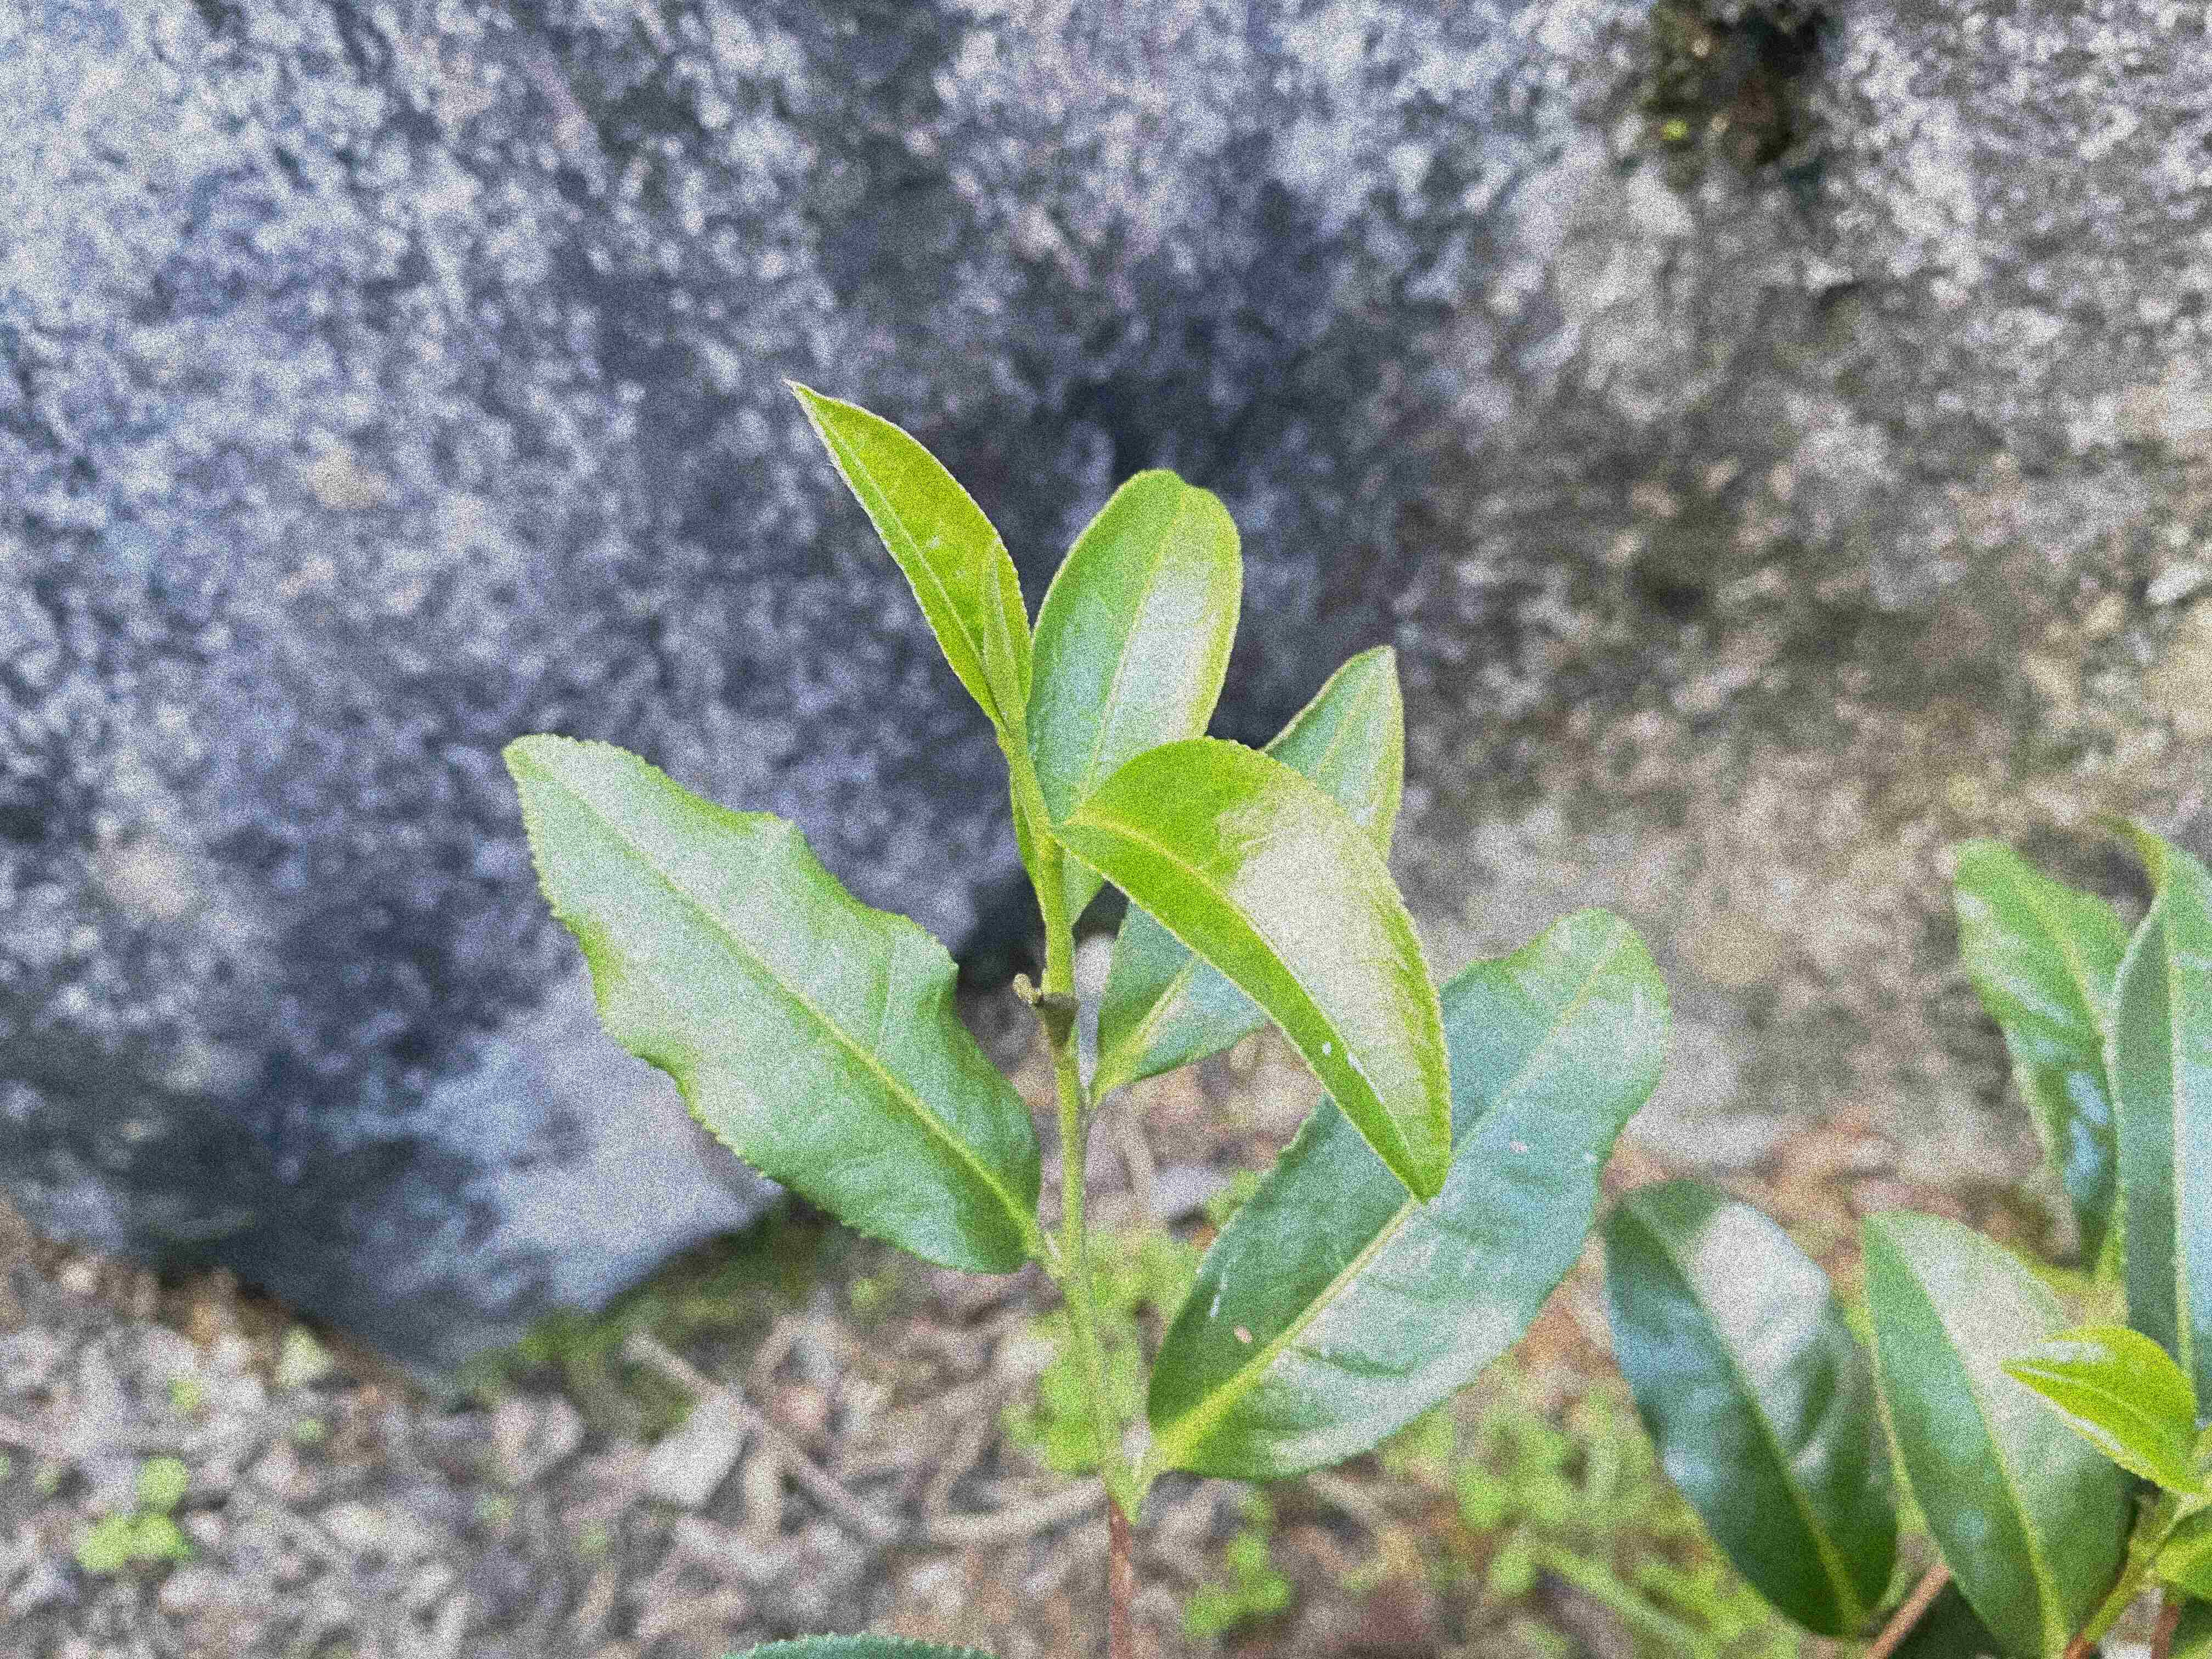healthy: (498, 723, 1045, 1277), (1043, 737, 1456, 1209), (784, 373, 1031, 727), (1991, 1321, 2203, 1497)
tanju_low: (1144, 903, 1674, 1486)
